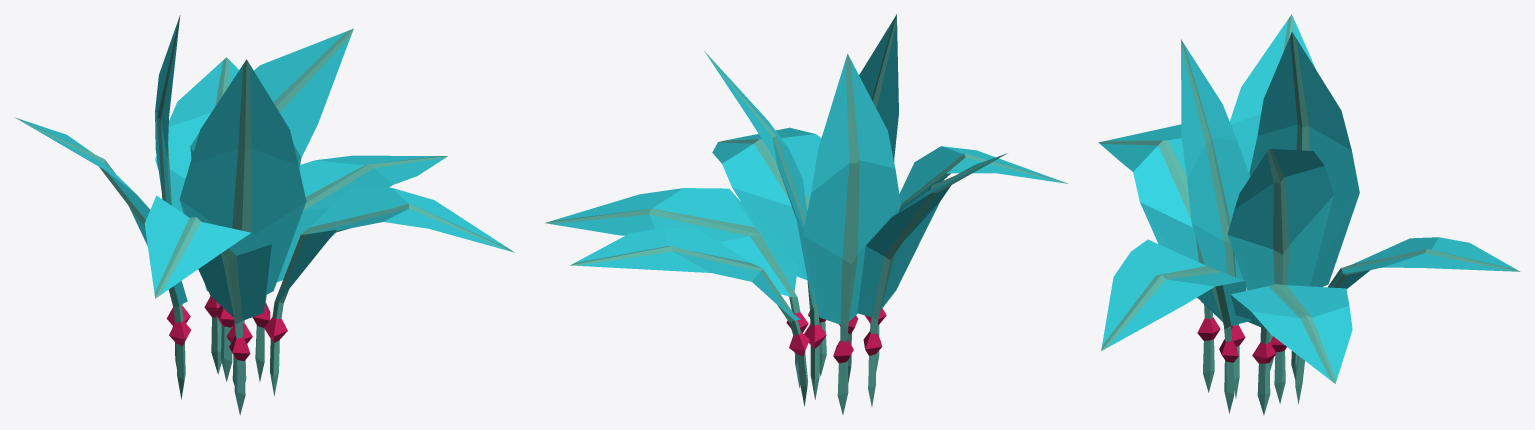
Rendered from Gras_04_Var_04.fbx.
3 renders of one model, left to right at view 1: azimuth 30°, elevation 25°; view 2: azimuth 150°, elevation 25°; view 3: azimuth 270°, elevation 25°, orthographic. The views are drawn at different scales.
Parts seen in each view (by area): view 1: Gras_04_Var_04; view 2: Gras_04_Var_04; view 3: Gras_04_Var_04.
Boxes of the visible parts, box(x1,y1,x2,y2) form: Gras_04_Var_04: box(15, 15, 514, 415); Gras_04_Var_04: box(545, 14, 1068, 414); Gras_04_Var_04: box(1098, 14, 1520, 415).
Bounding box in the file's own units: 0.28 × 0.2592 × 0.3319.
